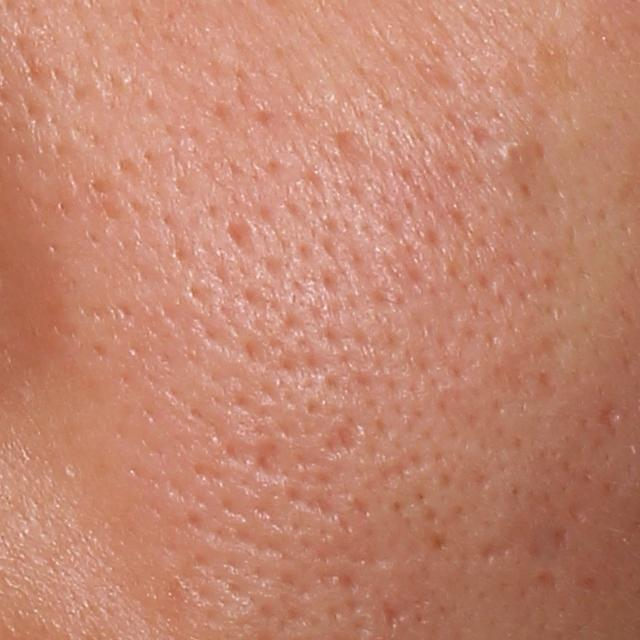atrophic_scar: (492, 330, 570, 400), (328, 125, 376, 176), (220, 210, 255, 258), (381, 595, 416, 634), (255, 437, 284, 477), (328, 424, 359, 460), (531, 568, 568, 595), (596, 398, 621, 437), (483, 539, 521, 563), (551, 524, 574, 558)
comedo: (495, 130, 533, 174)
